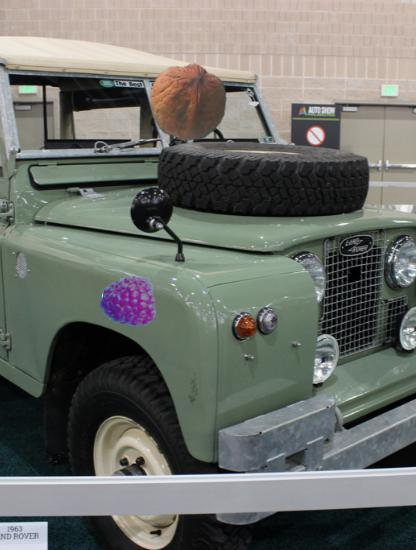Raspberry: (102, 273, 158, 329)
Walnut: (148, 62, 229, 143)
